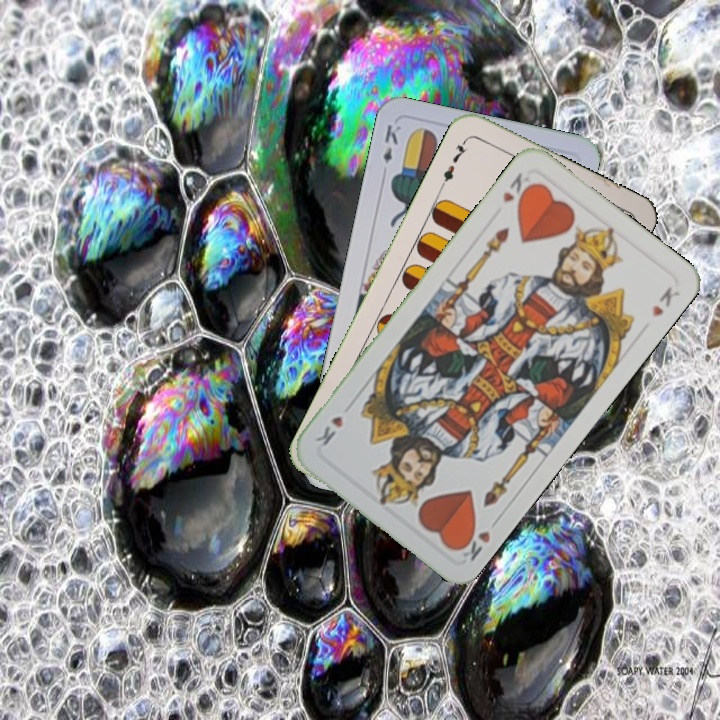E7: (436, 135, 471, 190)
EK: (379, 120, 403, 166)
HK: (452, 513, 503, 564), (498, 168, 537, 208)
